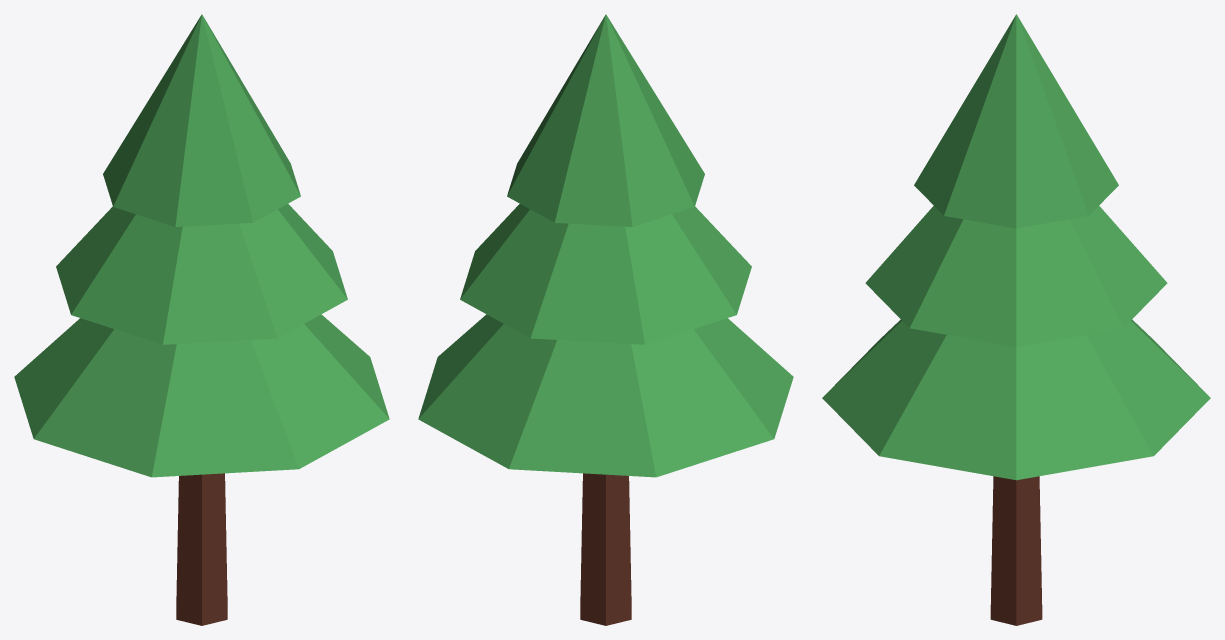
File: P_TreePine.fbx
3 views of the same model, side by side, from view 1: azimuth 30°, elevation 25°; view 2: azimuth 150°, elevation 25°; view 3: azimuth 270°, elevation 25° (orthographic).
Visible parts, largest first — view 1: P_TreePine; view 2: P_TreePine; view 3: P_TreePine.
Boxes of the visible parts, <box> form: P_TreePine: <box>14,14,389,625</box>; P_TreePine: <box>418,14,793,625</box>; P_TreePine: <box>822,14,1210,625</box>.
Size of the model in its own units: 1.44 by 2.45 by 1.44.
